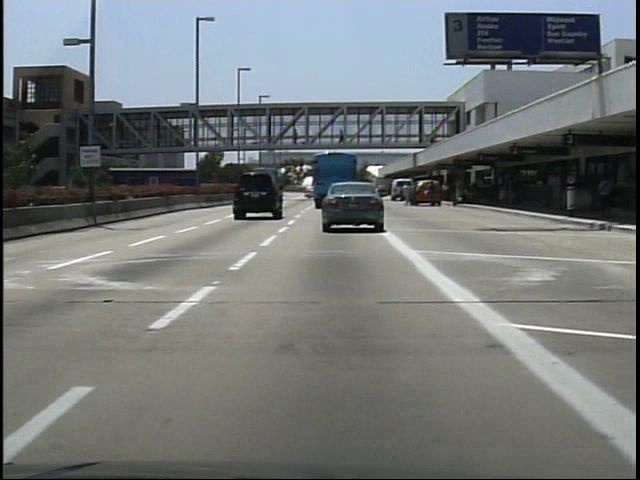person: (595, 171, 615, 217), (427, 178, 444, 211), (398, 180, 416, 209), (336, 127, 349, 152), (291, 124, 304, 145)
